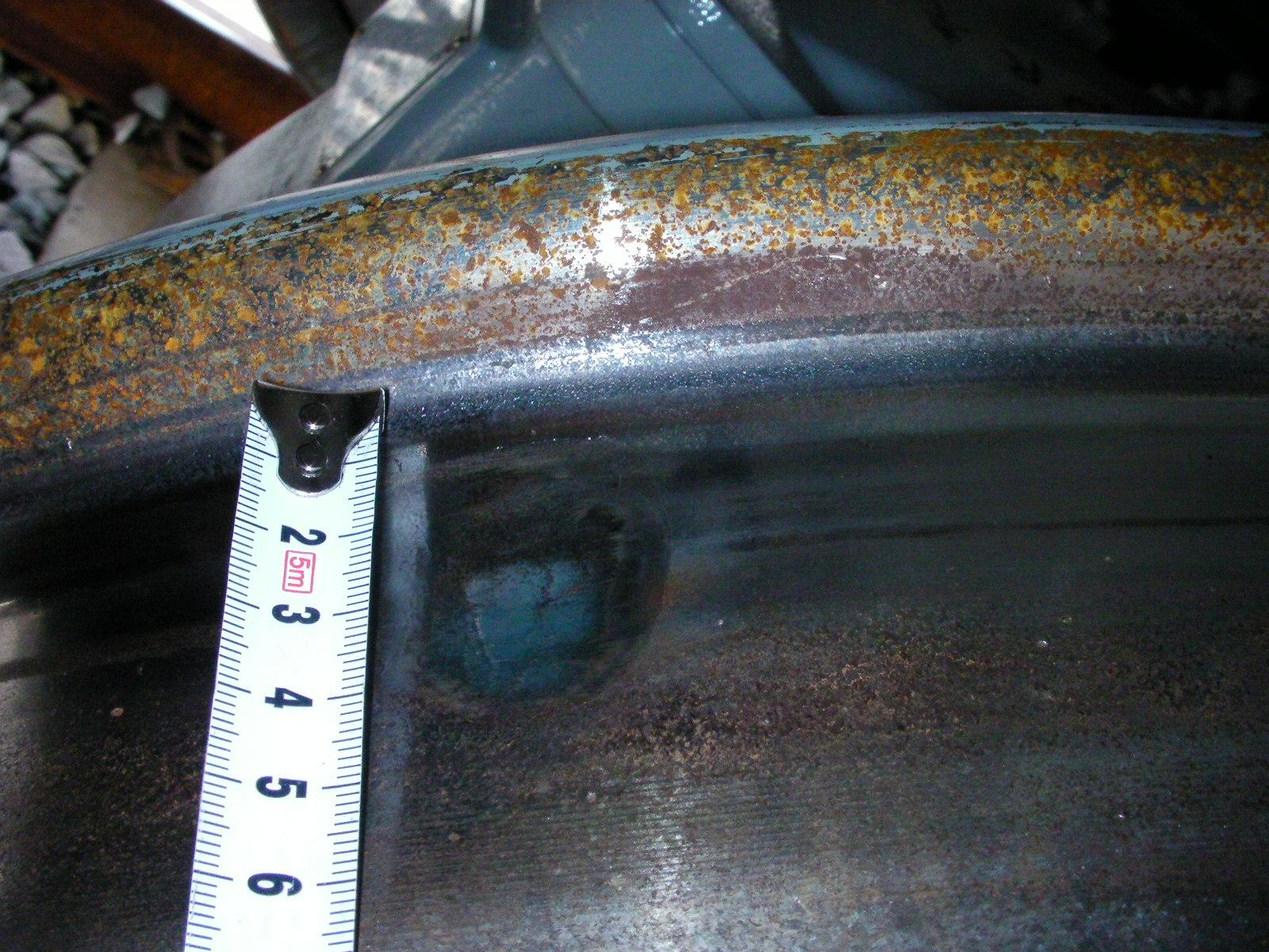Shelling: (407, 485, 677, 701)
